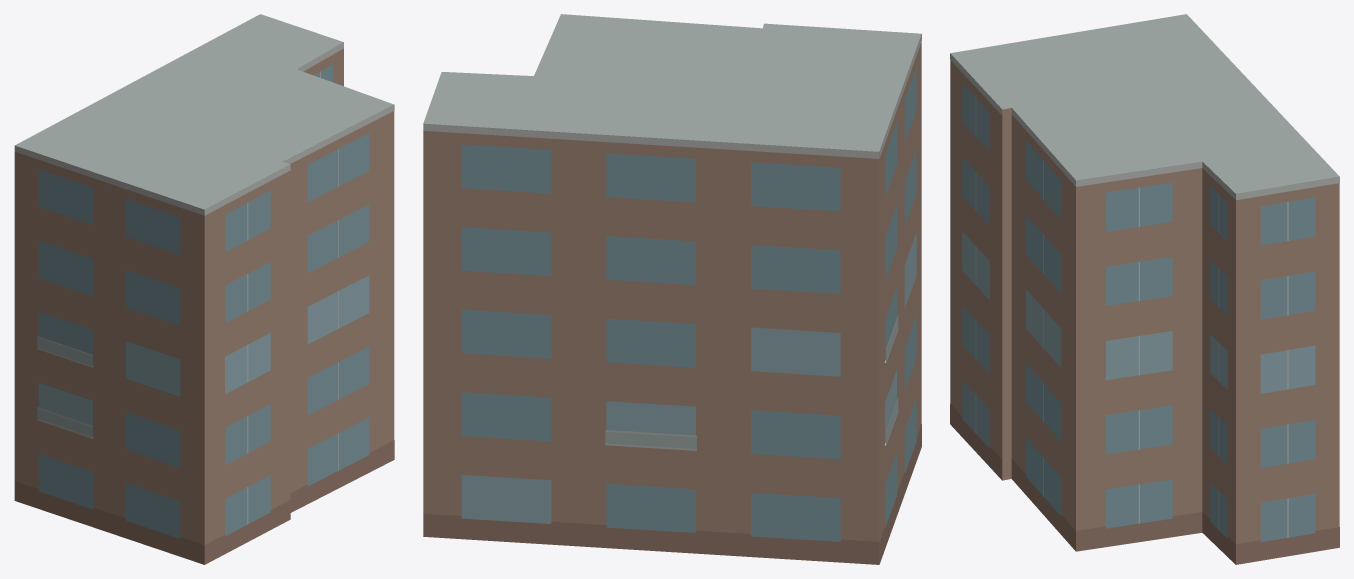
Rendered from survey-upis-32848347.glb.
The picture shows the model from 3 angles, left to right: view 1: azimuth 30°, elevation 25°; view 2: azimuth 150°, elevation 25°; view 3: azimuth 270°, elevation 25°; orthographic projection. The views are drawn at different scales.
Parts seen in each view (by area): view 1: survey-upis-32848347.tmp; view 2: survey-upis-32848347.tmp; view 3: survey-upis-32848347.tmp.
Part boxes in pixels (x1,y1,x2,y2): survey-upis-32848347.tmp: (14, 14, 394, 564); survey-upis-32848347.tmp: (423, 14, 921, 564); survey-upis-32848347.tmp: (950, 14, 1339, 564).
Size of the model in its own units: 14.77 by 14.2 by 13.53.
